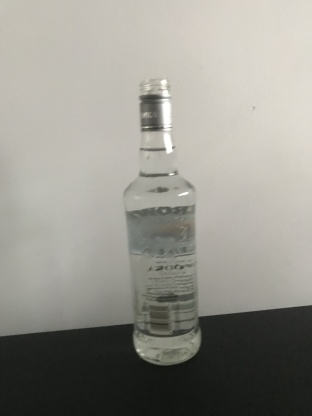nakretka: (137, 79, 173, 133)
